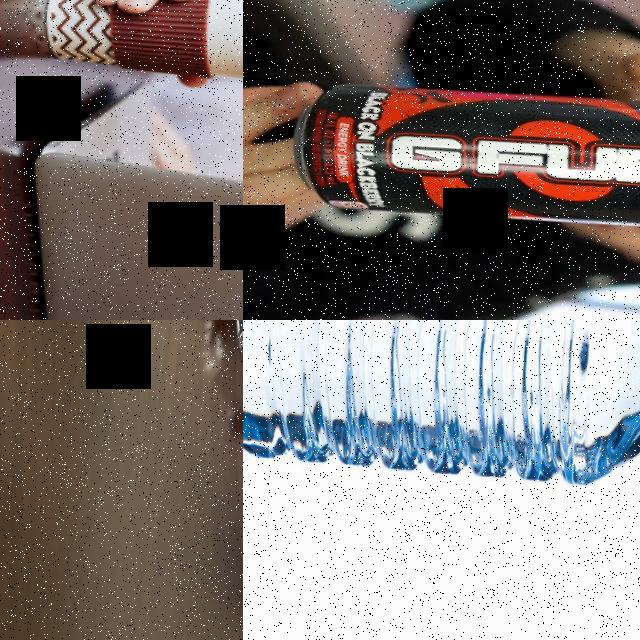bottle: (243, 320, 640, 500)
can: (286, 71, 640, 247)
cup: (39, 0, 243, 100)
